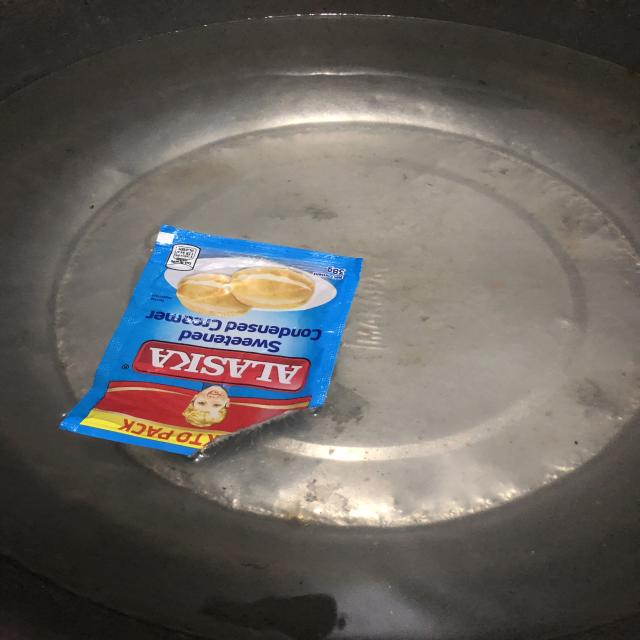Plastic Wrapper: (59, 225, 362, 460)
